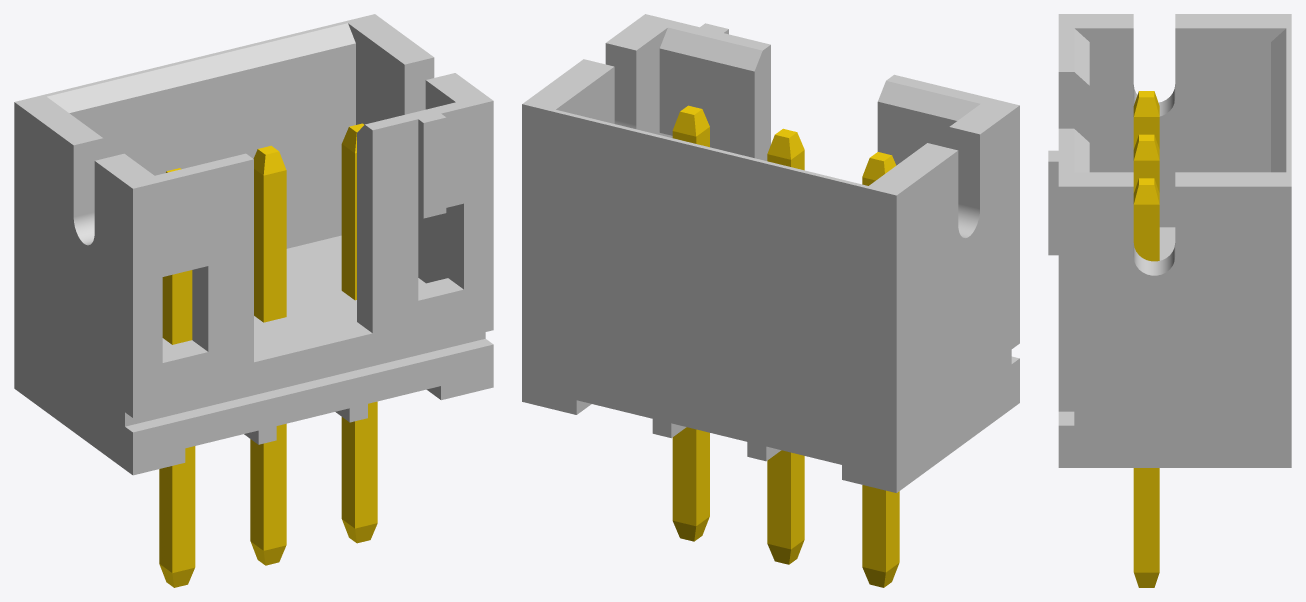
The picture shows the model from 3 angles, left to right: view 1: azimuth 30°, elevation 25°; view 2: azimuth 150°, elevation 25°; view 3: azimuth 270°, elevation 25°; orthographic projection. The views are drawn at different scales.
Parts seen in each view (by area): view 1: BxB-PH-K-S; view 2: BxB-PH-K-S; view 3: BxB-PH-K-S.
Boxes of the visible parts, x1,y1,x2,y2 form: BxB-PH-K-S: [14, 14, 493, 587]; BxB-PH-K-S: [522, 14, 1019, 587]; BxB-PH-K-S: [1048, 14, 1291, 587].
Bounding box in the file's own units: 0.0079 × 0.0094 × 0.0047.
